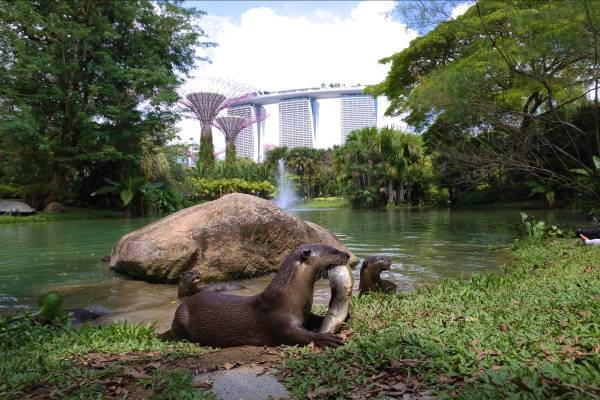otter: (160, 242, 355, 353)
